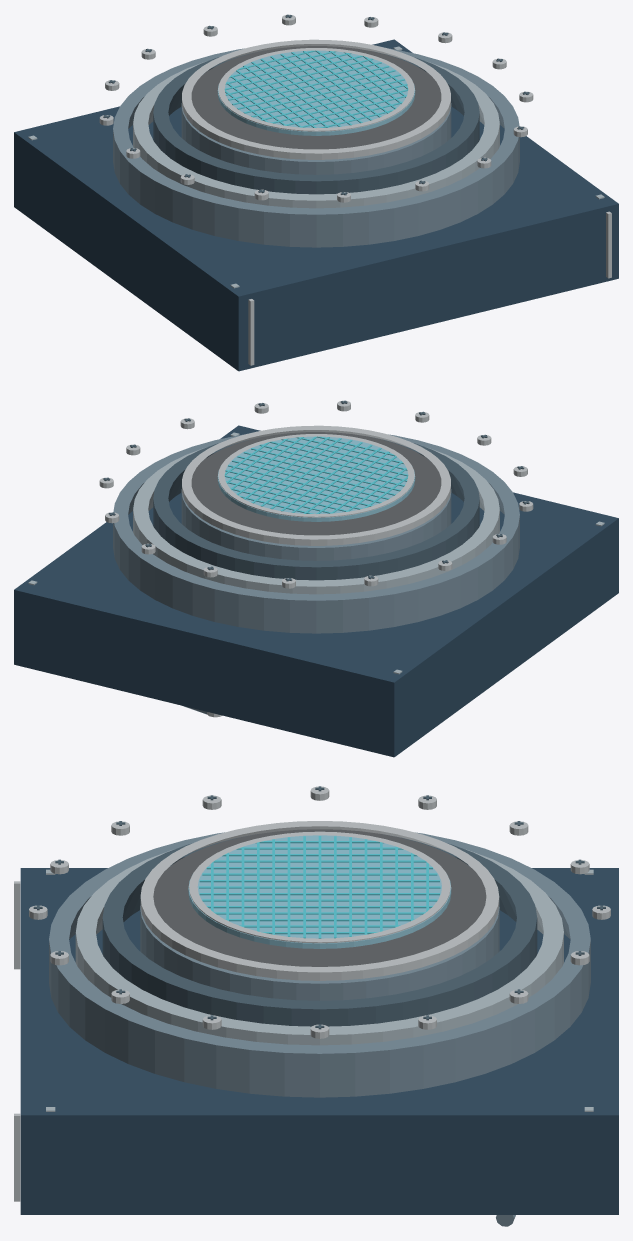
File: 03_L74_PhotoresistSpinCoatingBowl.glb
3 renders of one model, top to bottom at view 1: azimuth 30°, elevation 25°; view 2: azimuth 150°, elevation 25°; view 3: azimuth 270°, elevation 25°, orthographic. The views are drawn at different scales.
Visible parts, largest first — view 1: PhotoresistSpinCoatingBowl_Node_0000, PhotoresistSpinCoatingBowl_Node_0007, PhotoresistSpinCoatingBowl_Node_0009, PhotoresistSpinCoatingBowl_Node_0013, PhotoresistSpinCoatingBowl_Node_0008, PhotoresistSpinCoatingBowl_Node_0011, PhotoresistSpinCoatingBowl_Node_0012, PhotoresistSpinCoatingBowl_Node_0010, PhotoresistSpinCoatingBowl_Node_0014; view 2: PhotoresistSpinCoatingBowl_Node_0000, PhotoresistSpinCoatingBowl_Node_0007, PhotoresistSpinCoatingBowl_Node_0009, PhotoresistSpinCoatingBowl_Node_0013, PhotoresistSpinCoatingBowl_Node_0008, PhotoresistSpinCoatingBowl_Node_0011, PhotoresistSpinCoatingBowl_Node_0012, PhotoresistSpinCoatingBowl_Node_0010, PhotoresistSpinCoatingBowl_Node_0014; view 3: PhotoresistSpinCoatingBowl_Node_0000, PhotoresistSpinCoatingBowl_Node_0007, PhotoresistSpinCoatingBowl_Node_0009, PhotoresistSpinCoatingBowl_Node_0013, PhotoresistSpinCoatingBowl_Node_0008, PhotoresistSpinCoatingBowl_Node_0011, PhotoresistSpinCoatingBowl_Node_0012, PhotoresistSpinCoatingBowl_Node_0010, PhotoresistSpinCoatingBowl_Node_0014, PhotoresistSpinCoatingBowl_Node_0029, PhotoresistSpinCoatingBowl_Node_0033, PhotoresistSpinCoatingBowl_Node_0025 (+6 smaller).
Boxes of the visible parts, x1=… form: PhotoresistSpinCoatingBowl_Node_0000: x1=14, y1=39, x2=618, y2=371; PhotoresistSpinCoatingBowl_Node_0007: x1=113, y1=48, x2=519, y2=247; PhotoresistSpinCoatingBowl_Node_0009: x1=153, y1=50, x2=479, y2=194; PhotoresistSpinCoatingBowl_Node_0013: x1=217, y1=50, x2=415, y2=135; PhotoresistSpinCoatingBowl_Node_0008: x1=133, y1=61, x2=499, y2=208; PhotoresistSpinCoatingBowl_Node_0011: x1=191, y1=46, x2=441, y2=149; PhotoresistSpinCoatingBowl_Node_0012: x1=182, y1=39, x2=450, y2=159; PhotoresistSpinCoatingBowl_Node_0010: x1=181, y1=73, x2=451, y2=174; PhotoresistSpinCoatingBowl_Node_0014: x1=218, y1=48, x2=414, y2=131; PhotoresistSpinCoatingBowl_Node_0000: x1=14, y1=425, x2=618, y2=757; PhotoresistSpinCoatingBowl_Node_0007: x1=113, y1=434, x2=519, y2=633; PhotoresistSpinCoatingBowl_Node_0009: x1=153, y1=436, x2=479, y2=580; PhotoresistSpinCoatingBowl_Node_0013: x1=217, y1=436, x2=415, y2=521; PhotoresistSpinCoatingBowl_Node_0008: x1=133, y1=447, x2=499, y2=594; PhotoresistSpinCoatingBowl_Node_0011: x1=191, y1=432, x2=441, y2=535; PhotoresistSpinCoatingBowl_Node_0012: x1=182, y1=425, x2=450, y2=545; PhotoresistSpinCoatingBowl_Node_0010: x1=181, y1=459, x2=451, y2=560; PhotoresistSpinCoatingBowl_Node_0014: x1=218, y1=434, x2=414, y2=517; PhotoresistSpinCoatingBowl_Node_0000: x1=20, y1=868, x2=618, y2=1214; PhotoresistSpinCoatingBowl_Node_0007: x1=49, y1=832, x2=590, y2=1097; PhotoresistSpinCoatingBowl_Node_0009: x1=102, y1=834, x2=537, y2=1026; PhotoresistSpinCoatingBowl_Node_0013: x1=188, y1=835, x2=451, y2=948; PhotoresistSpinCoatingBowl_Node_0008: x1=75, y1=849, x2=563, y2=1045; PhotoresistSpinCoatingBowl_Node_0011: x1=153, y1=829, x2=486, y2=966; PhotoresistSpinCoatingBowl_Node_0012: x1=140, y1=821, x2=499, y2=980; PhotoresistSpinCoatingBowl_Node_0010: x1=140, y1=864, x2=499, y2=1000; PhotoresistSpinCoatingBowl_Node_0014: x1=189, y1=831, x2=450, y2=943; PhotoresistSpinCoatingBowl_Node_0029: x1=199, y1=886, x2=440, y2=888; PhotoresistSpinCoatingBowl_Node_0033: x1=202, y1=899, x2=437, y2=901; PhotoresistSpinCoatingBowl_Node_0025: x1=202, y1=873, x2=437, y2=875.
Size of the model in its own units: 2.18 by 1.02 by 2.26.
